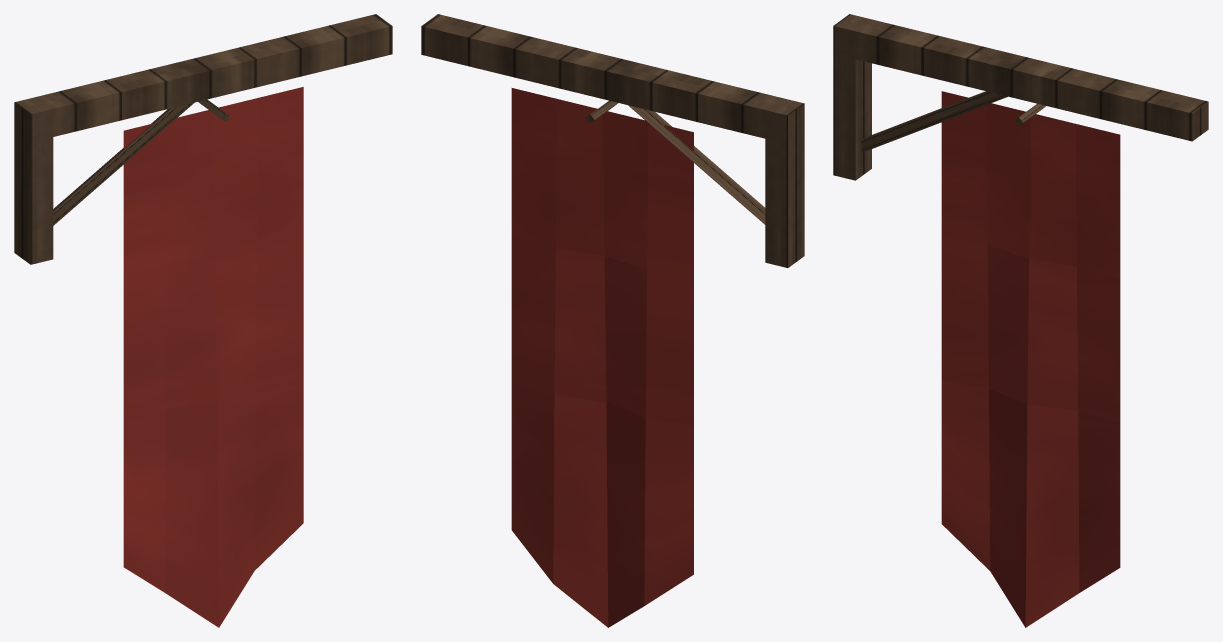
The model's file is Banner_1_LOD1.gltf.
The picture shows the model from 3 angles, left to right: view 1: azimuth 30°, elevation 25°; view 2: azimuth 150°, elevation 25°; view 3: azimuth 330°, elevation 25°; orthographic projection. The views are drawn at different scales.
Parts seen in each view (by area): view 1: Banner_1_LOD1; view 2: Banner_1_LOD1; view 3: Banner_1_LOD1.
Part boxes in pixels (x1,y1,x2,y2): Banner_1_LOD1: (14, 14, 392, 627); Banner_1_LOD1: (421, 14, 804, 627); Banner_1_LOD1: (833, 14, 1208, 627).
Bounding box in the file's own units: 1.61 × 2.39 × 0.19.
2 materials, 2 textured.
